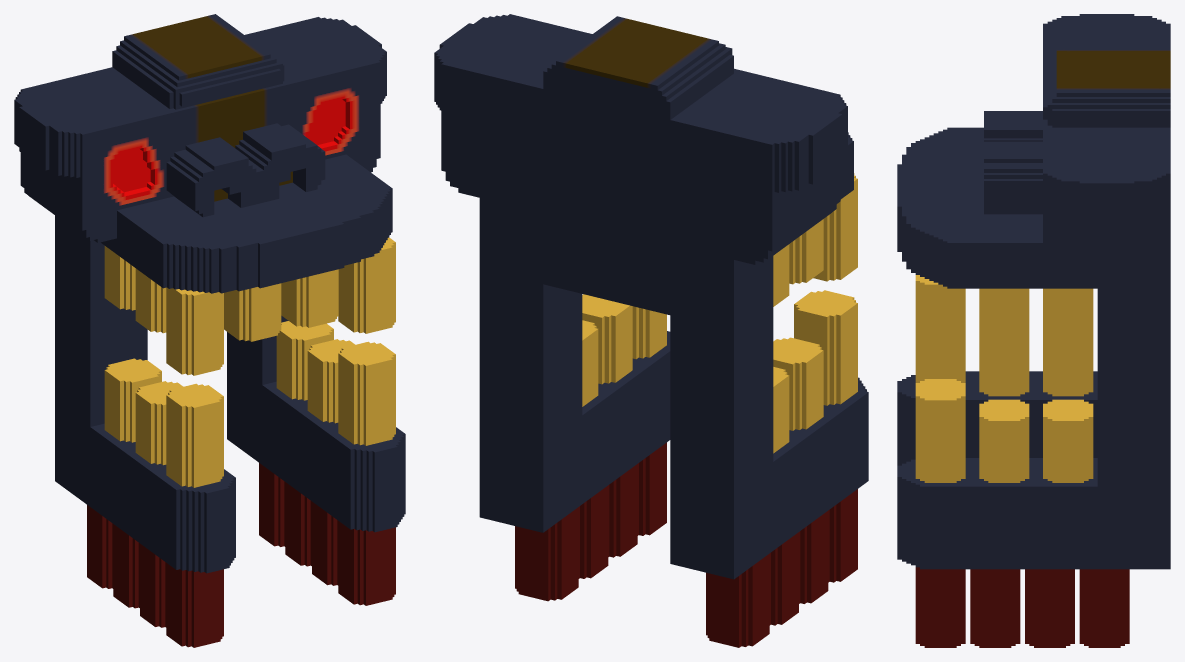
File: StartPoint.fbx
3 renders of one model, left to right at view 1: azimuth 30°, elevation 25°; view 2: azimuth 150°, elevation 25°; view 3: azimuth 270°, elevation 25°, orthographic. The views are drawn at different scales.
Parts seen in each view (by area): view 1: StartPoint; view 2: StartPoint; view 3: StartPoint.
Boxes of the visible parts, bbox=[...] form: StartPoint: bbox=[14, 14, 405, 647]; StartPoint: bbox=[434, 14, 868, 647]; StartPoint: bbox=[897, 14, 1170, 647].
Size of the model in its own units: 88 by 127 by 60.
Materials: 1 (1 with a texture image).
